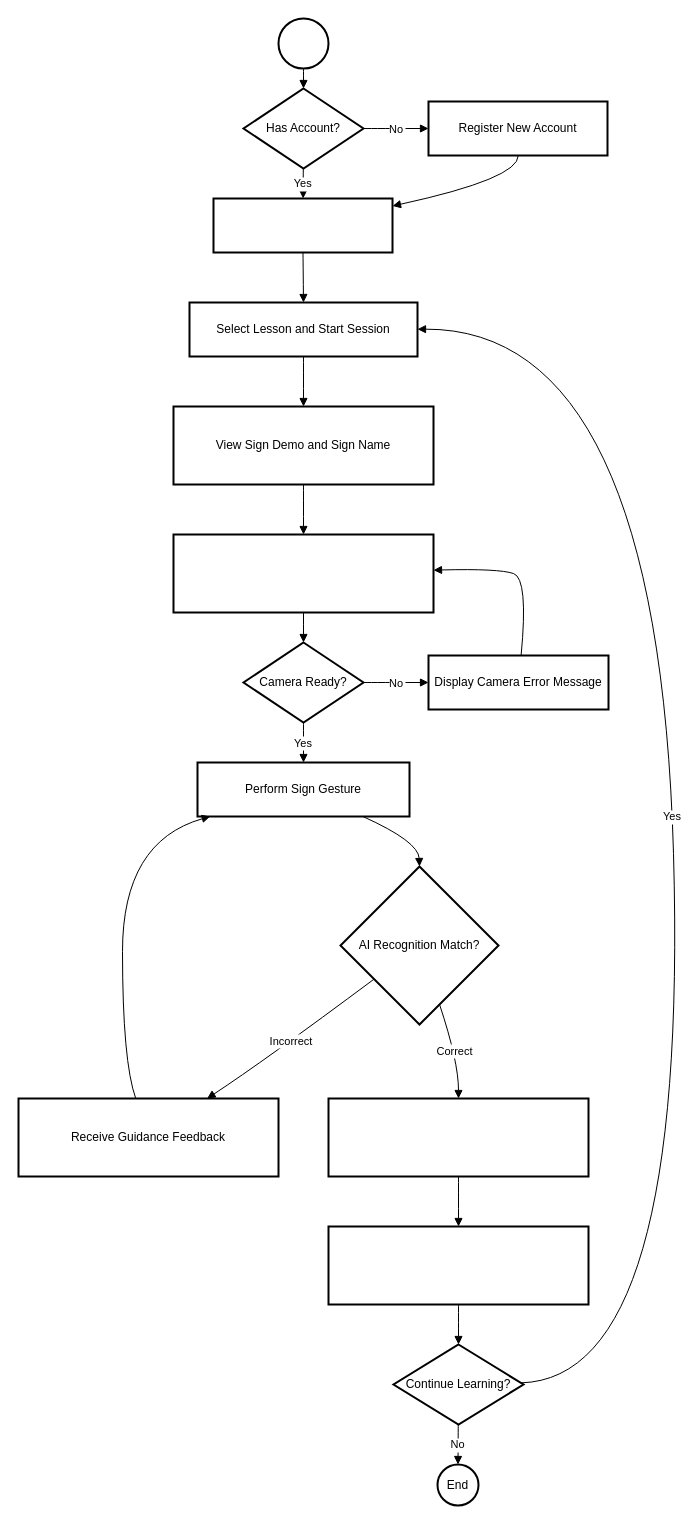
Image size: 699x1523. Some labels were removed from this diagram. Each missing label, with the centre of its shape:
Calibrate and Position in Camera: point (303, 573)
Login to Account: point (302, 225)
Start: point (303, 43)
View Performance Summary: point (458, 1265)
View Score and Results: point (458, 1137)
